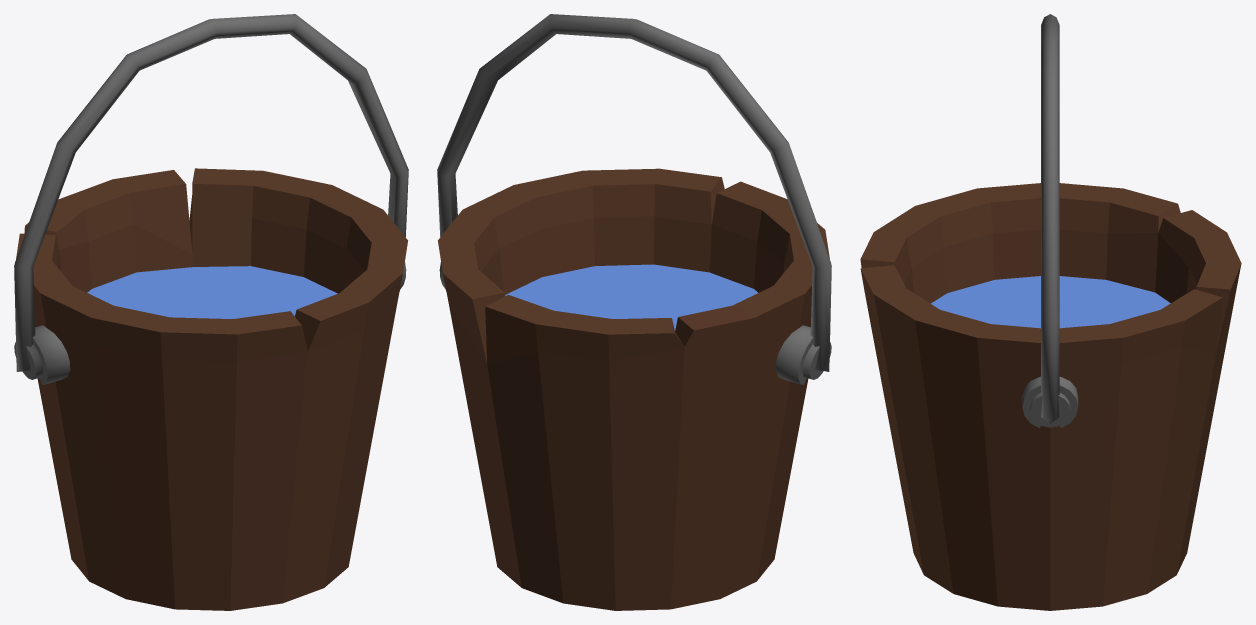
The model's file is balde.gltf.
The picture shows the model from 3 angles, left to right: view 1: azimuth 30°, elevation 25°; view 2: azimuth 150°, elevation 25°; view 3: azimuth 270°, elevation 25°; orthographic projection. The views are drawn at different scales.
Parts seen in each view (by area): view 1: Balde; view 2: Balde; view 3: Balde.
Boxes of the visible parts, x1,y1,x2,y2 form: Balde: (14, 14, 408, 610); Balde: (437, 14, 831, 610); Balde: (860, 14, 1241, 610).
Bounding box in the file's own units: 2.98 × 3.84 × 2.58.
